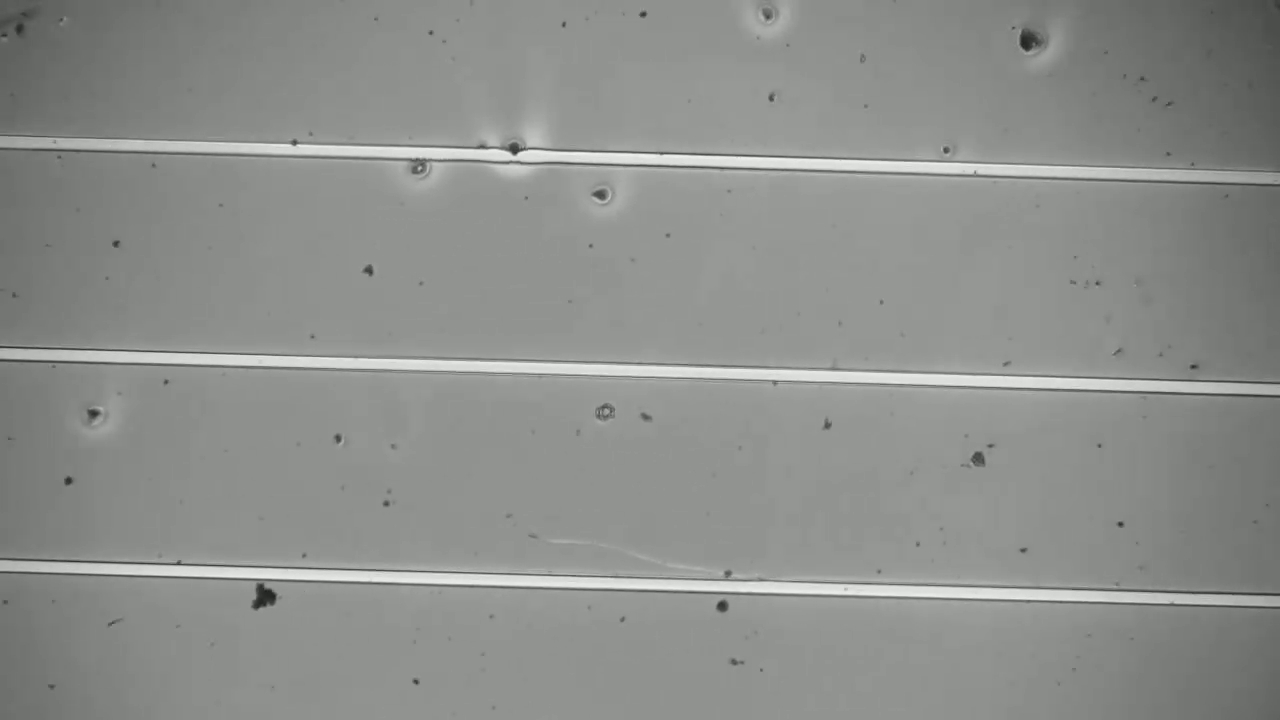stains_enbedded: (498, 128, 536, 170)
